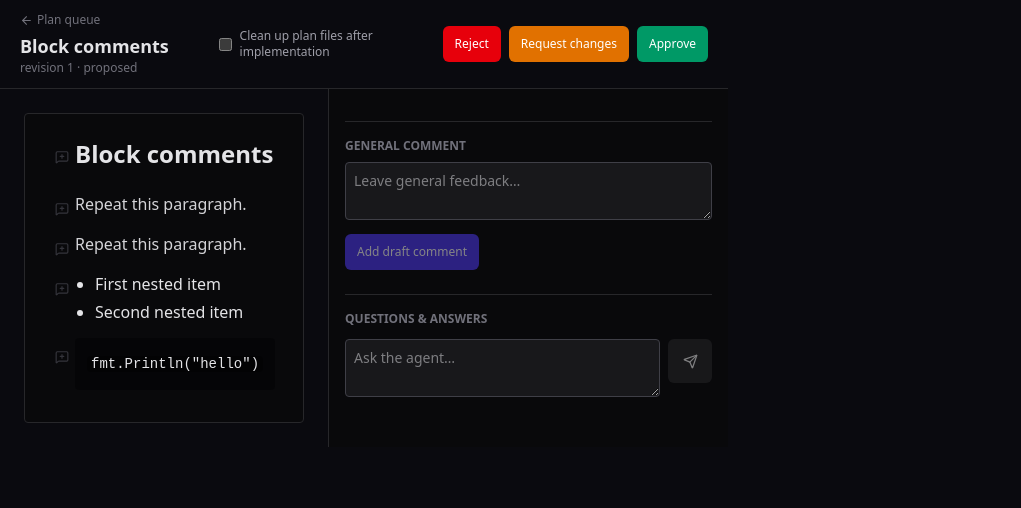
Test: PlanPage block comments › anchors a comment to the selected occurrence and shows its draft thread
Step 1. Click the 2nd button named "Comment on paragraph beginning Repeat this paragraph" → {"x": 62, "y": 249}, box [51,238,73,260]
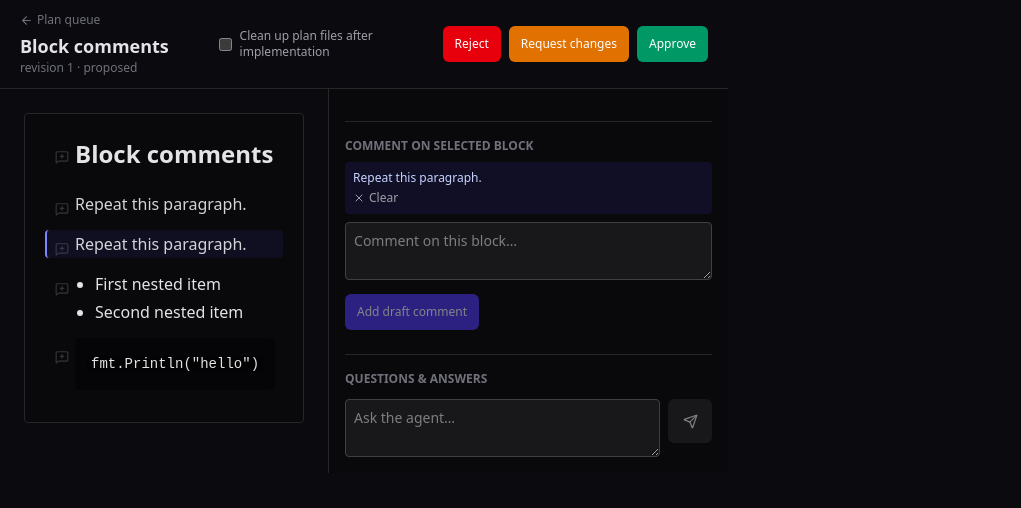
Step 2. Type "Clarify this" into the text box named "Comment on selected block" → {"x": 528, "y": 251}, box [345,222,712,280]
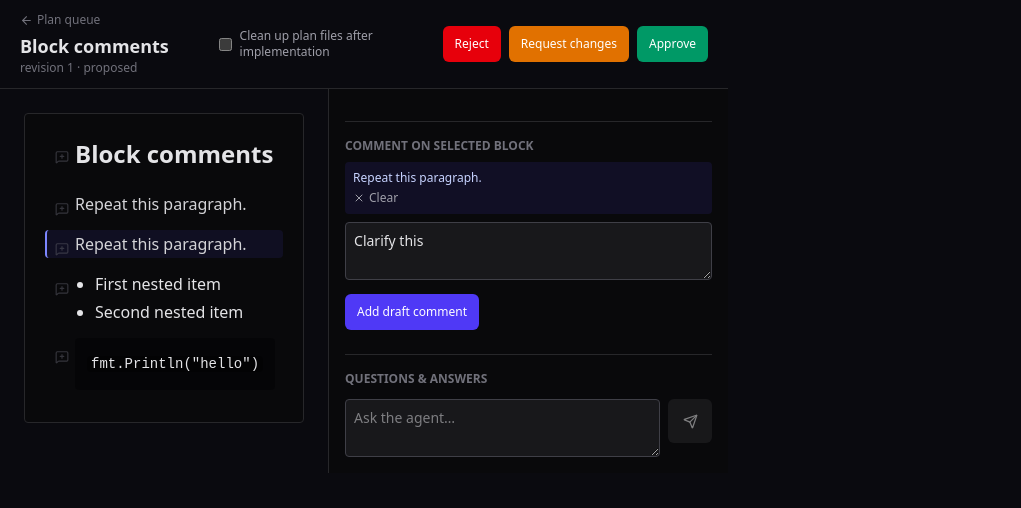
Step 3. Press Enter in the text box named "Comment on selected block", box [345,222,712,280]
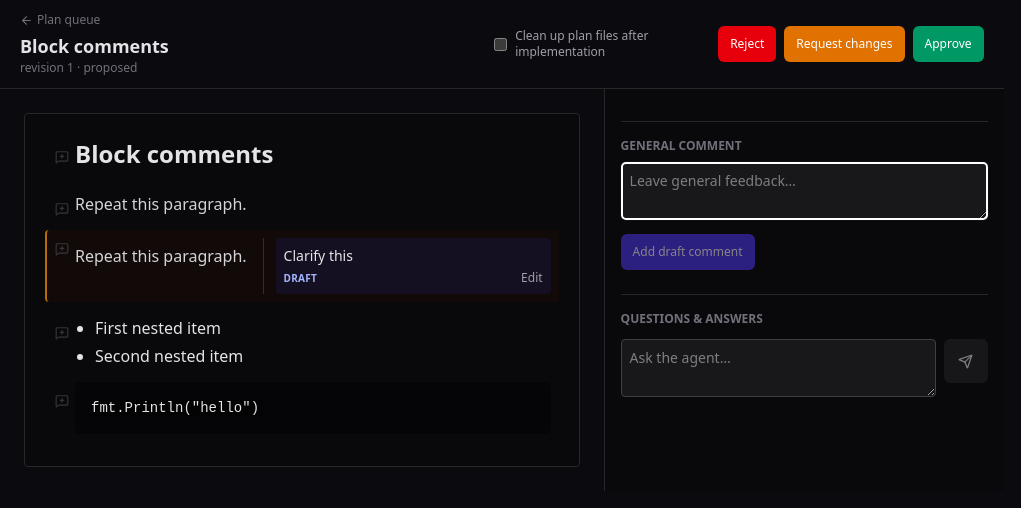
Expected: the text "Clarify this" is shown, [284,246,353,265]
Expected: the text "Draft" is shown, [284,271,317,285]
